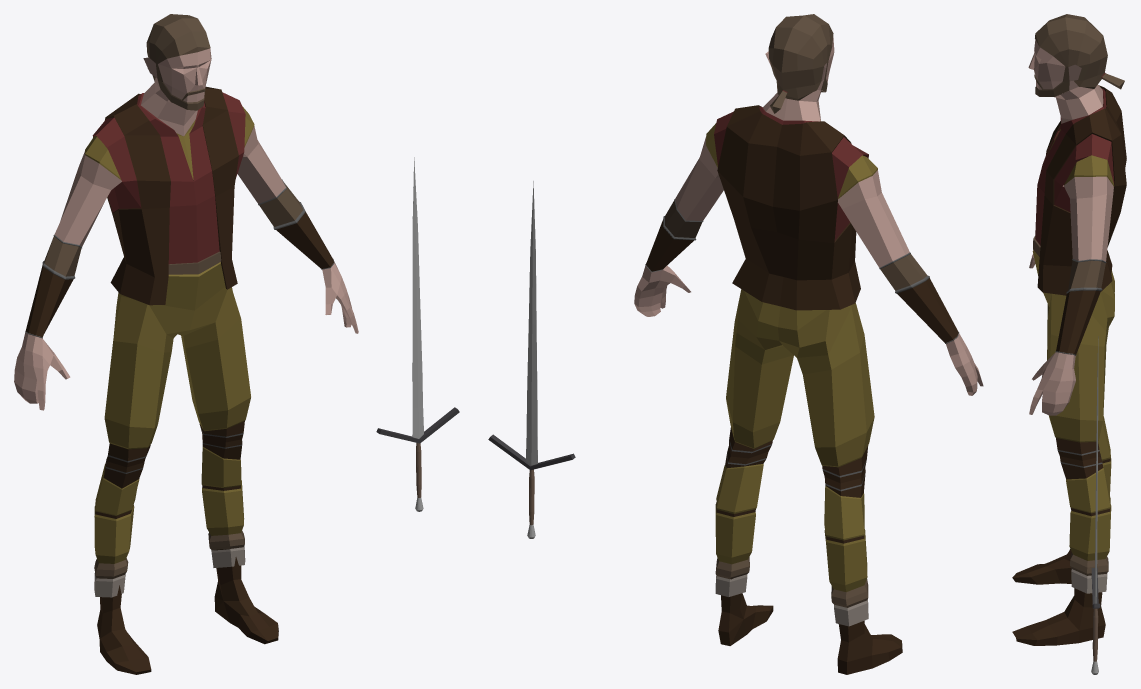
Rendered from IHCProyect_enemy1.fbx.
The picture shows the model from 3 angles, left to right: view 1: azimuth 30°, elevation 25°; view 2: azimuth 150°, elevation 25°; view 3: azimuth 270°, elevation 25°; orthographic projection. The views are drawn at different scales.
Parts seen in each view (by area): view 1: New, Cube.001; view 2: New, Cube.001; view 3: New, Cube.001.
Boxes of the visible parts, box(x1,y1,x2,y2) form: New: box(14, 14, 358, 674); Cube.001: box(376, 157, 459, 511); New: box(634, 14, 983, 674); Cube.001: box(488, 181, 575, 538); New: box(1012, 14, 1126, 645); Cube.001: box(1091, 336, 1100, 674).
Bounding box in the file's own units: 271 × 349 × 61.33.
